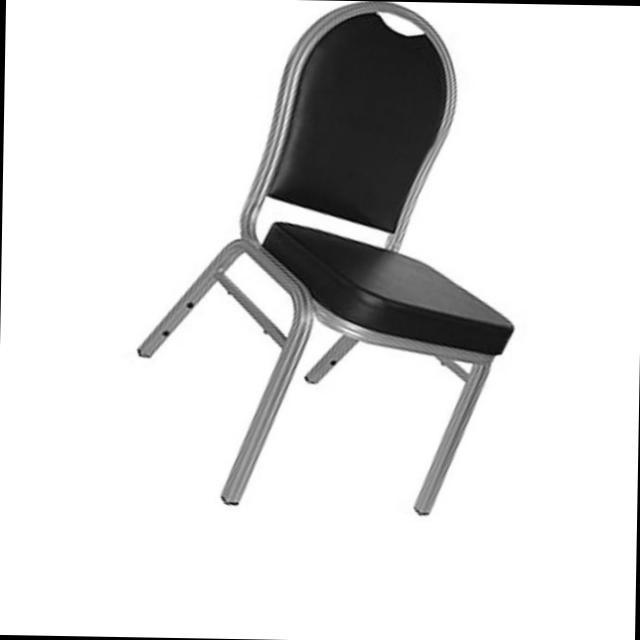chair: (124, 0, 523, 524)
